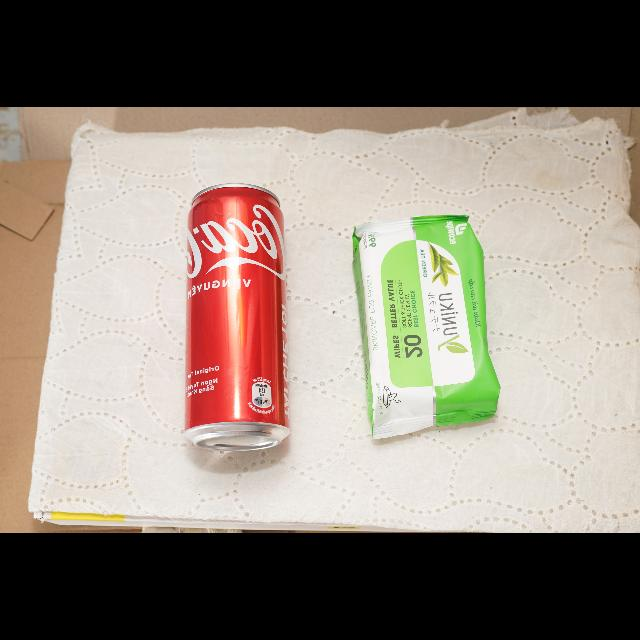coca_cola: (185, 184, 289, 452)
khan_giay: (354, 215, 500, 439)
